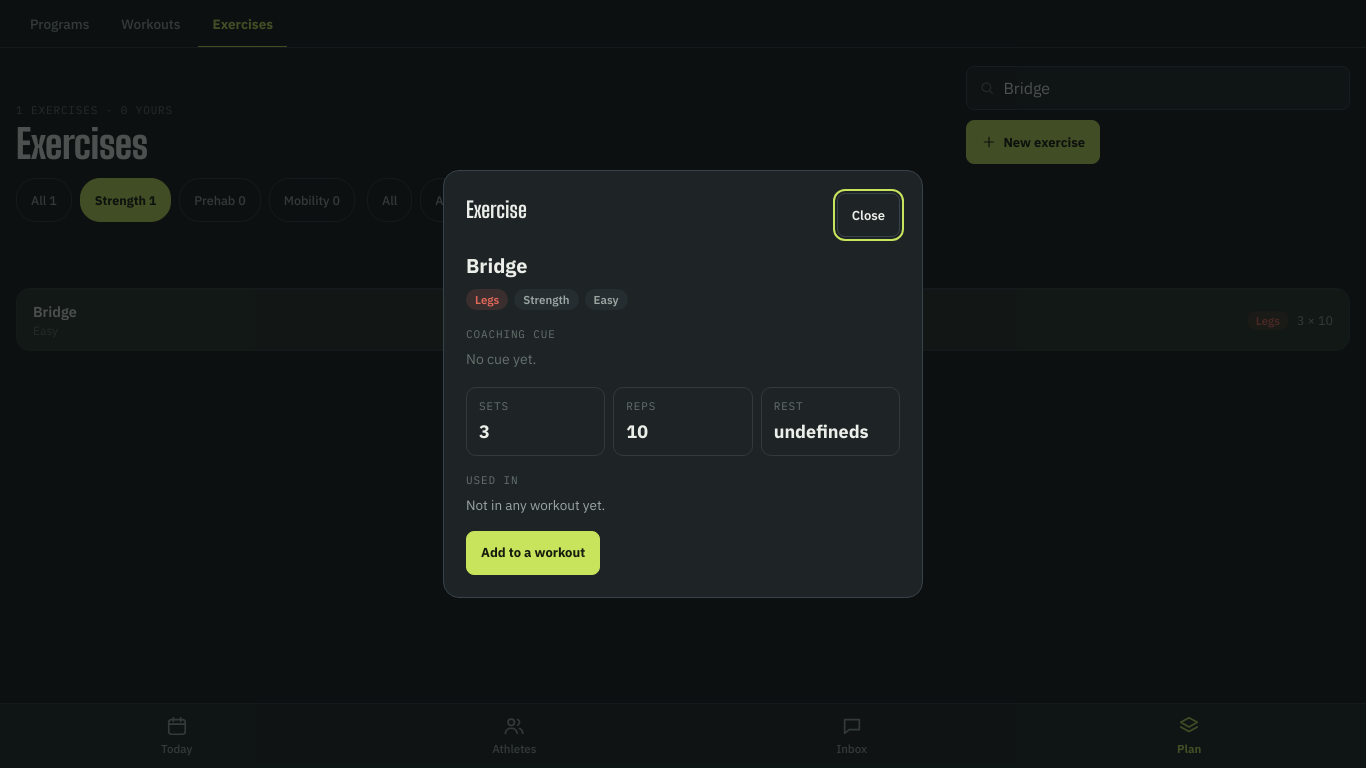
Test case: restores filters and selection through Plan navigation and allows explicit dialog closing
Click the button "Close" at (868, 215), box [837,193,900,237]
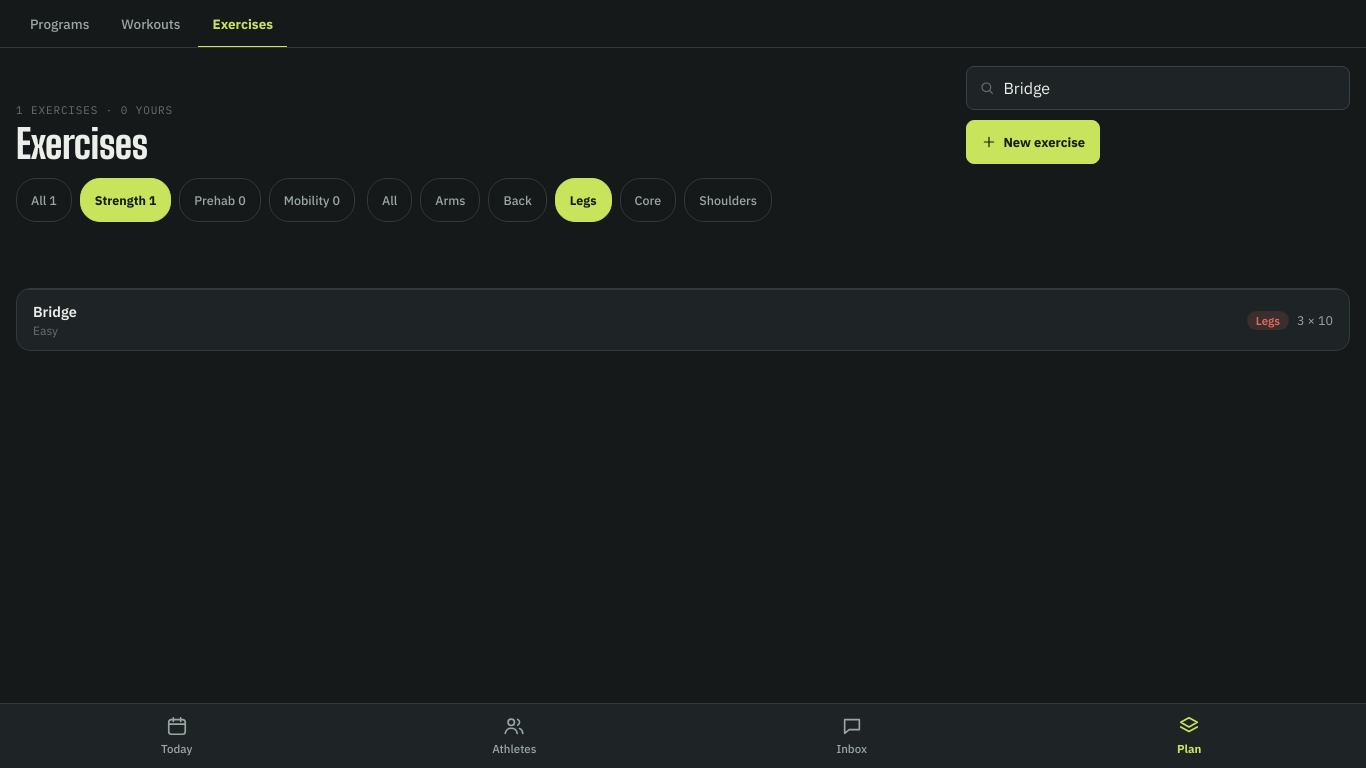
Click the link to "/plan/workouts" at (151, 24), box [121,15,180,33]
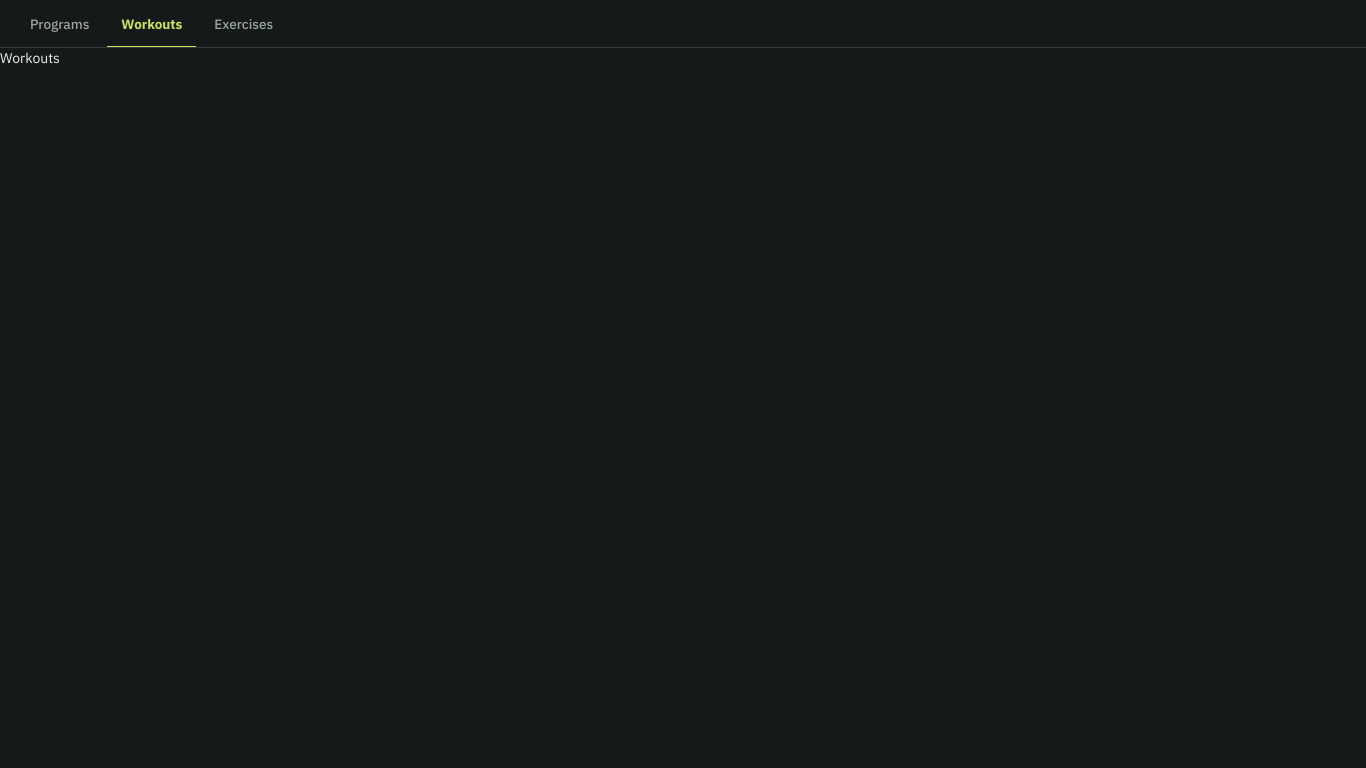
Click the link "Exercises" at (244, 24), box [214,15,273,33]
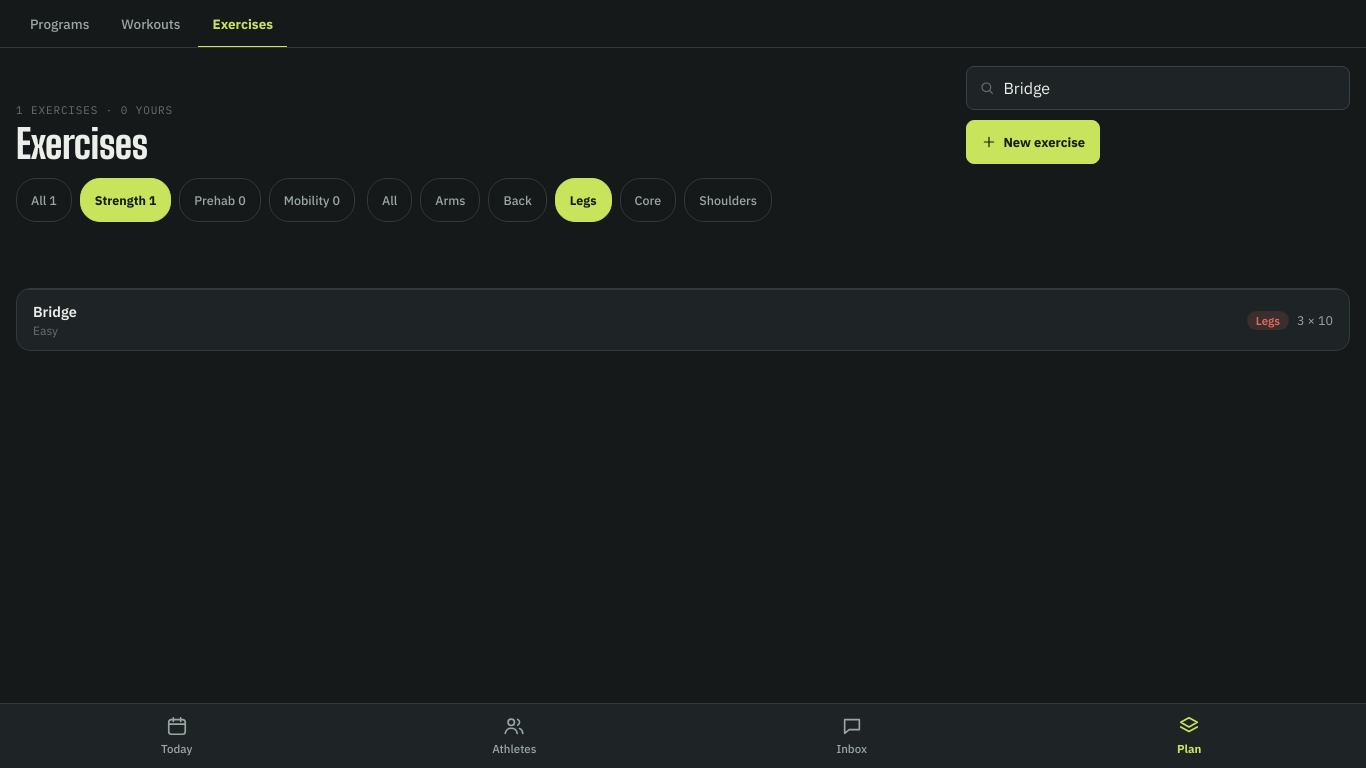
Now the field named "Search exercises" holds "Bridge", box [1003,78,1337,98]
